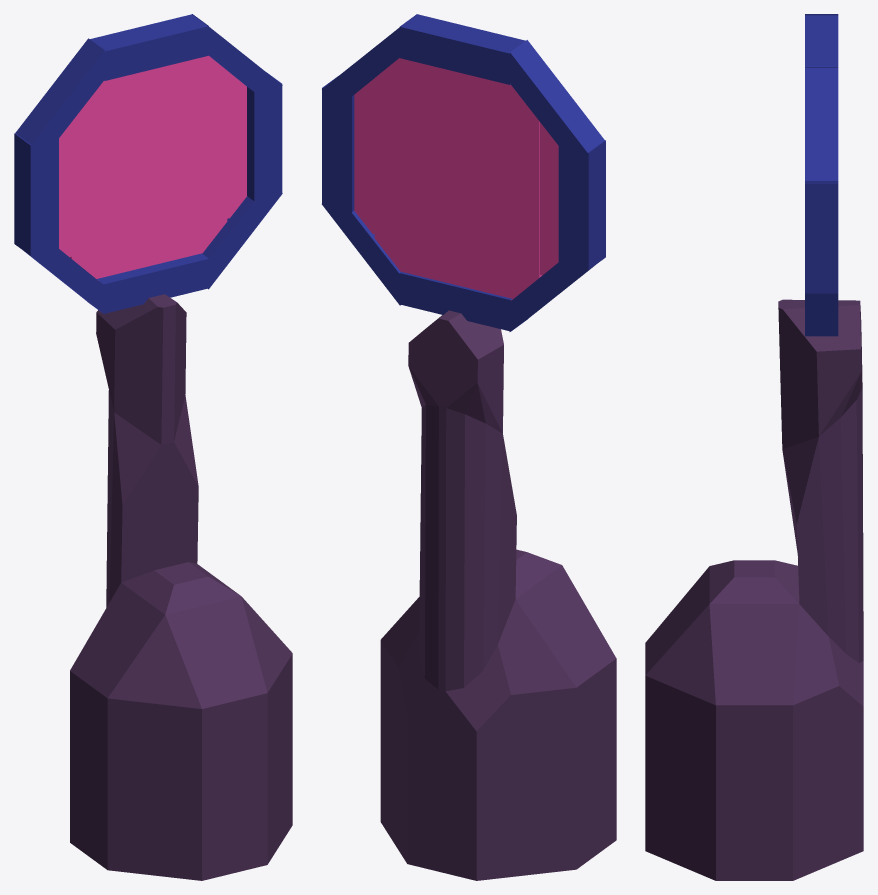
The model's file is table4.fbx.
3 views of the same model, side by side, from view 1: azimuth 30°, elevation 25°; view 2: azimuth 150°, elevation 25°; view 3: azimuth 270°, elevation 25° (orthographic). The views are drawn at different scales.
Parts seen in each view (by area): view 1: table4; view 2: table4; view 3: table4.
Part boxes in pixels (box(x1,y1,x2,y2)): table4: box(14, 14, 292, 880); table4: box(322, 14, 616, 880); table4: box(645, 14, 863, 880).
Size of the model in its own units: 285 by 839 by 209.
